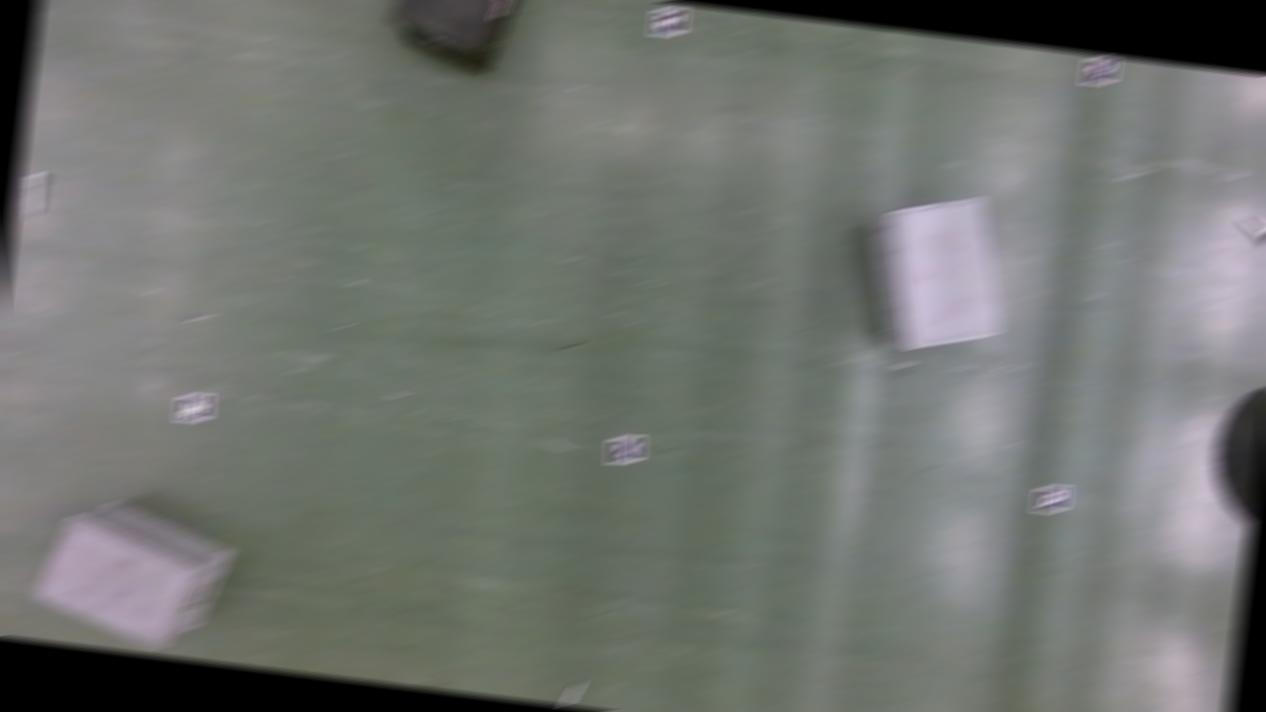probes: (20, 174, 44, 219), (1234, 217, 1266, 249), (552, 678, 585, 708)
rako: (24, 494, 240, 650), (847, 182, 1019, 364), (380, 1, 532, 76)
